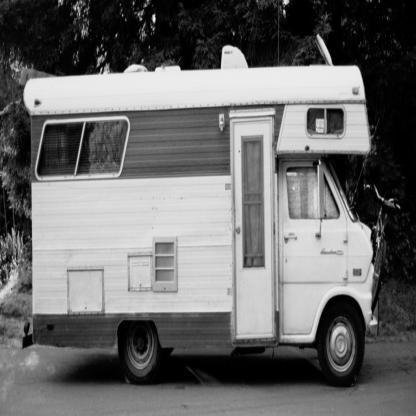Truck: (20, 0, 378, 387)
